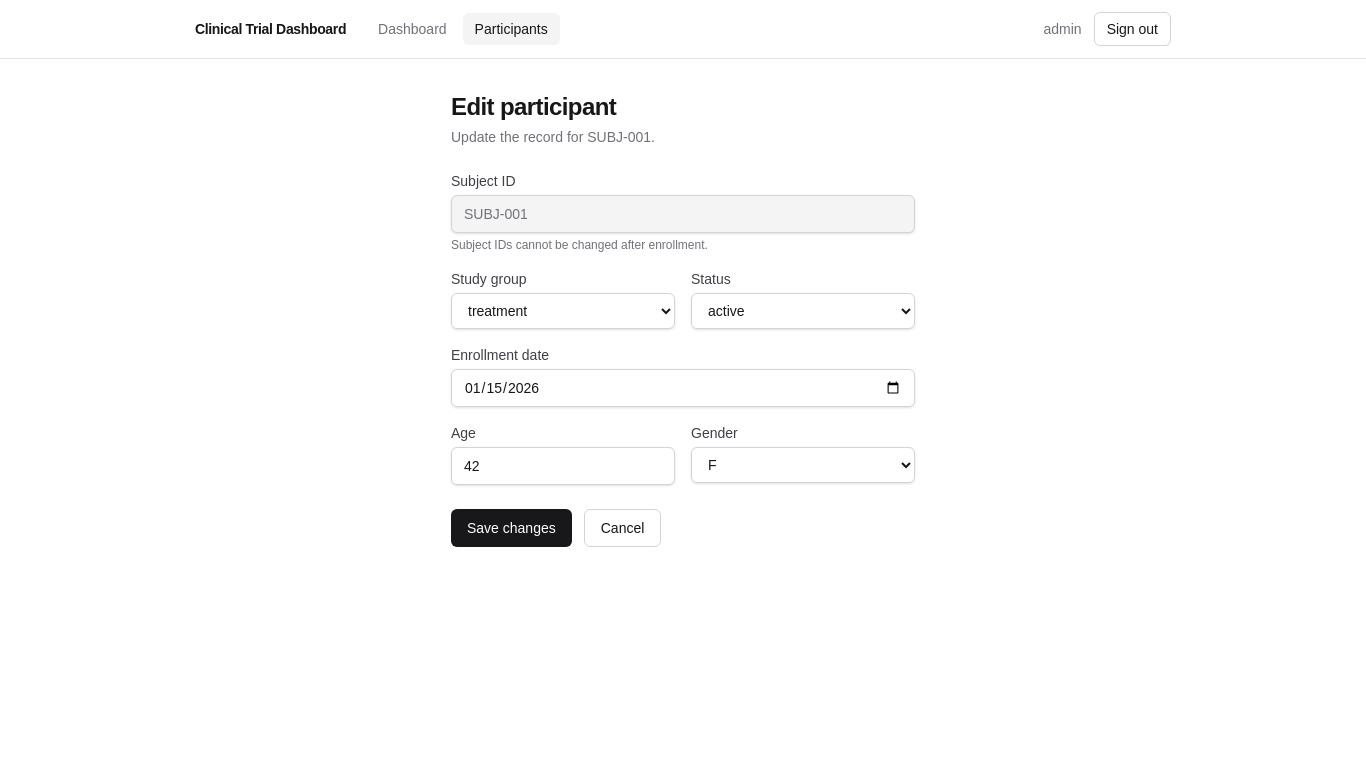
edit participant page › shows the backend error and stays on the page when the update fails
Expected: the field labelled "Subject ID" is shown, [451,195,915,233]
Click the button "Save changes" at (511, 528), box [451,509,572,547]
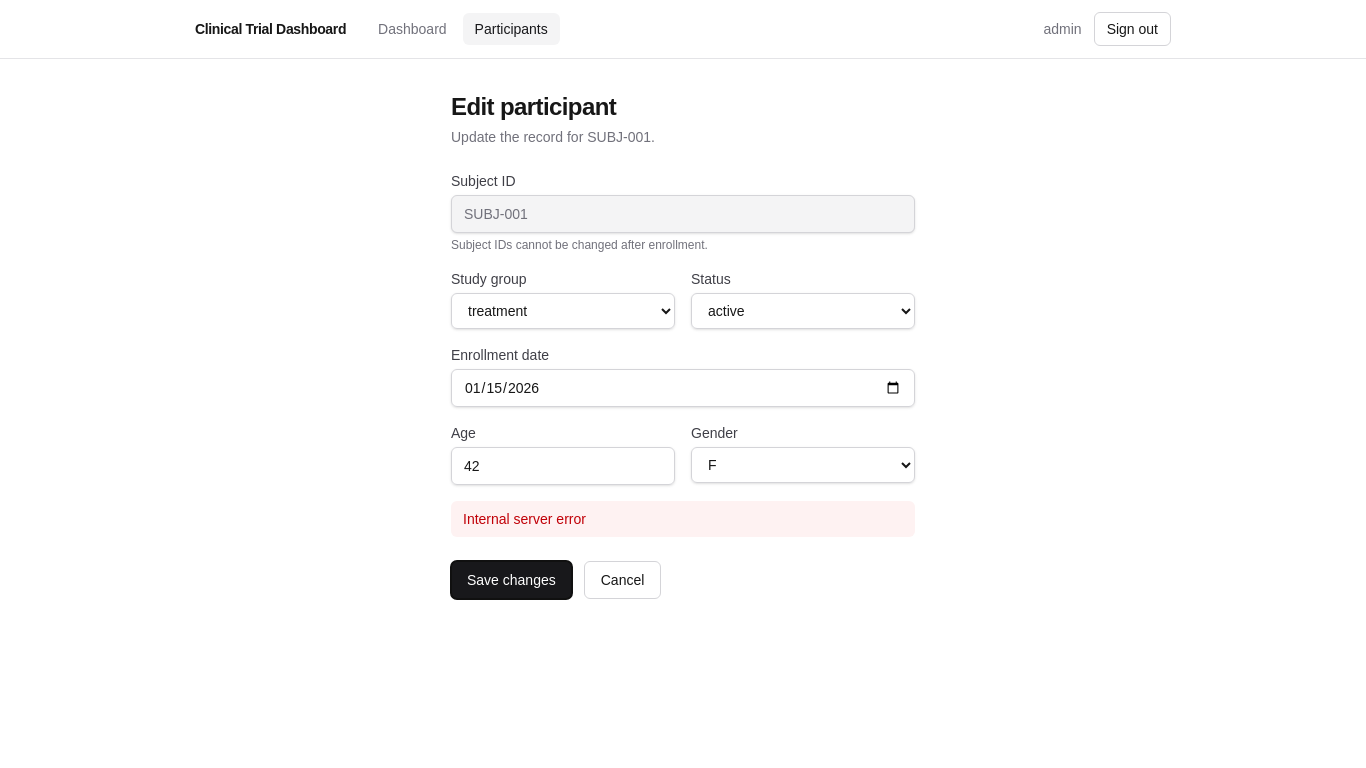
Now the message reads "Internal server error", box [463,511,586,527]
